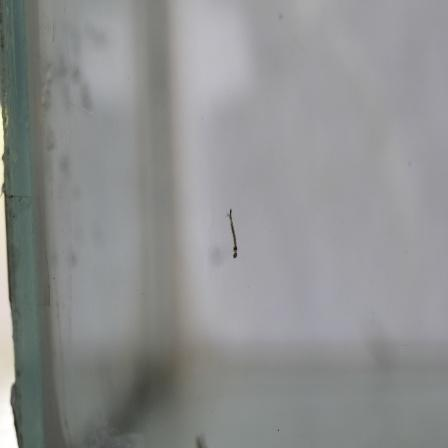Jentik-Nyamuk: (222, 207, 242, 264)
